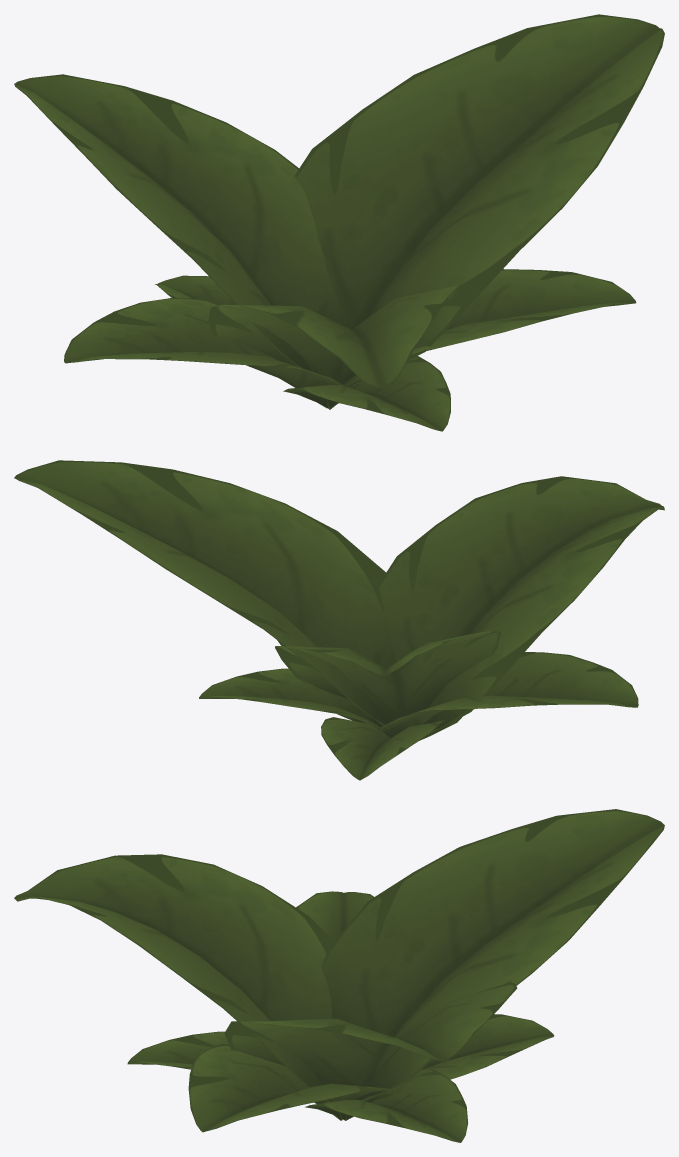
Rendered from SM_Leafy_Foliage_1.fbx.
3 renders of one model, top to bottom at view 1: azimuth 30°, elevation 25°; view 2: azimuth 150°, elevation 25°; view 3: azimuth 270°, elevation 25°, orthographic. The views are drawn at different scales.
Visible parts, largest first — view 1: SM_Leafy_Foliage_1_LOD0; view 2: SM_Leafy_Foliage_1_LOD0; view 3: SM_Leafy_Foliage_1_LOD0.
Boxes of the visible parts, x1,y1,x2,y2 form: SM_Leafy_Foliage_1_LOD0: (14,14,664,431); SM_Leafy_Foliage_1_LOD0: (14,460,664,780); SM_Leafy_Foliage_1_LOD0: (14,809,664,1142).
Size of the model in its own units: 115 by 105 by 44.33.
Materials: 1 (1 with a texture image).
